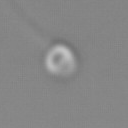normal: (1, 1, 49, 46)
